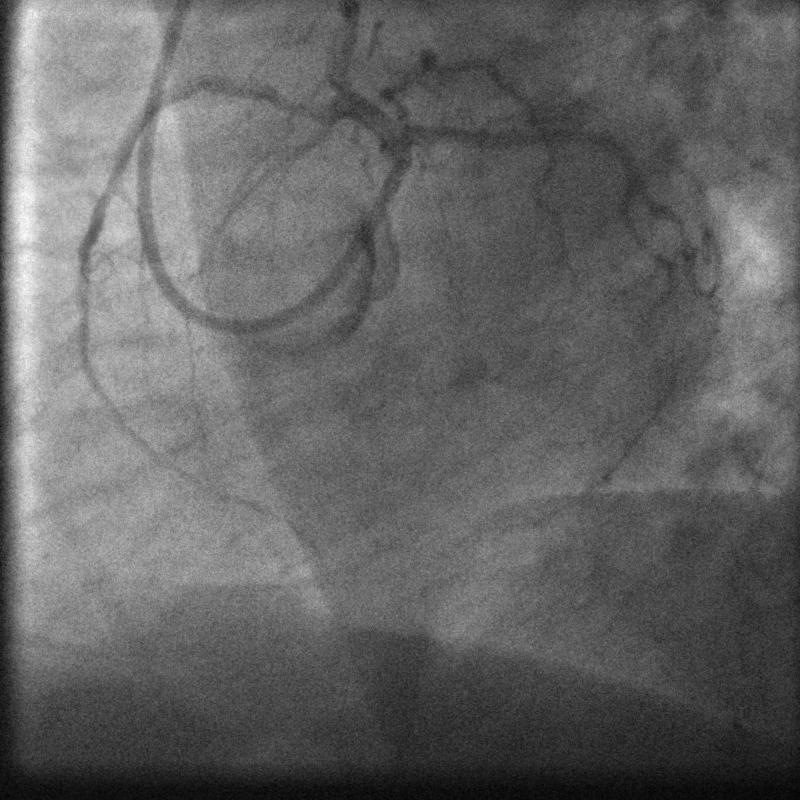Stenosis: (260, 78, 325, 132)
